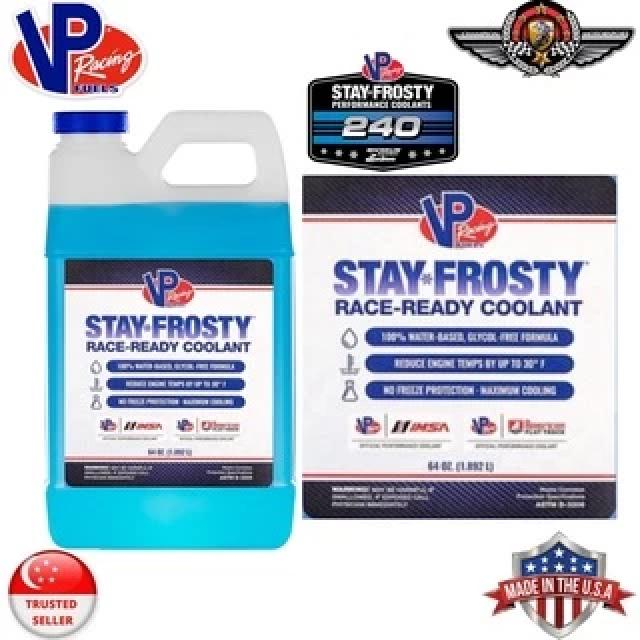coolant: (44, 99, 300, 551)
